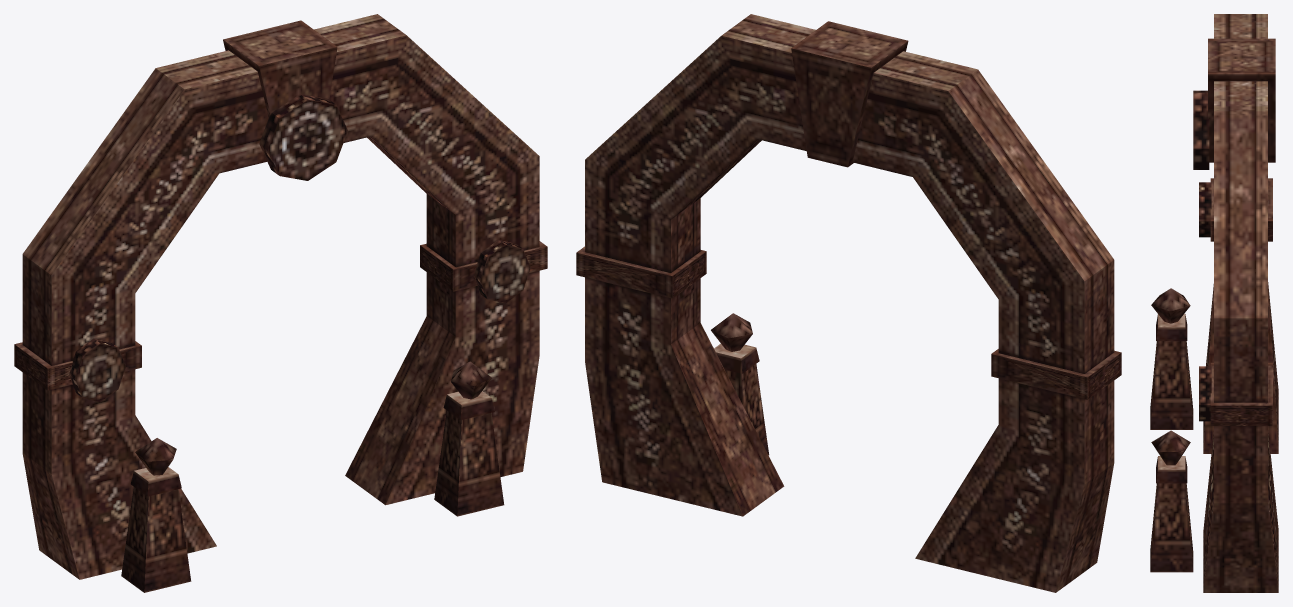
The model's file is warpgate02.glb.
The picture shows the model from 3 angles, left to right: view 1: azimuth 30°, elevation 25°; view 2: azimuth 150°, elevation 25°; view 3: azimuth 270°, elevation 25°; orthographic projection. The views are drawn at different scales.
Visible parts, largest first — view 1: Object01; view 2: Object01; view 3: Object01.
Part boxes in pixels (x1,y1,x2,y2): Object01: (14,14,547,592); Object01: (576,14,1121,592); Object01: (1150,14,1278,592).
Bounding box in the file's own units: 8.61 × 7.72 × 2.06.
Materials: 1 (1 with a texture image).
